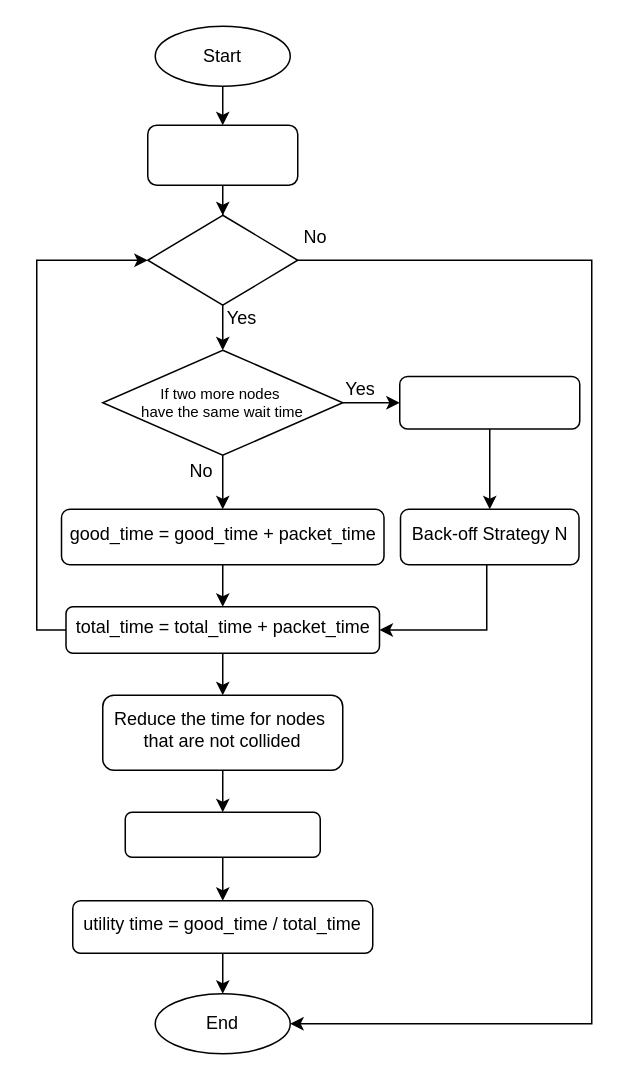
The diagram is 630 pixels wide and 1080 high, and some of its shapes have lost their labels. Here are the shapes that lost their labels. From the top down, the box of each, then its label:
(146, 124, 298, 185): Initialization
(146, 214, 298, 305): total_time < T
(398, 375, 580, 429): collision_flag = 1 (collision occured)
(124, 811, 320, 857): collision_flag = 0
